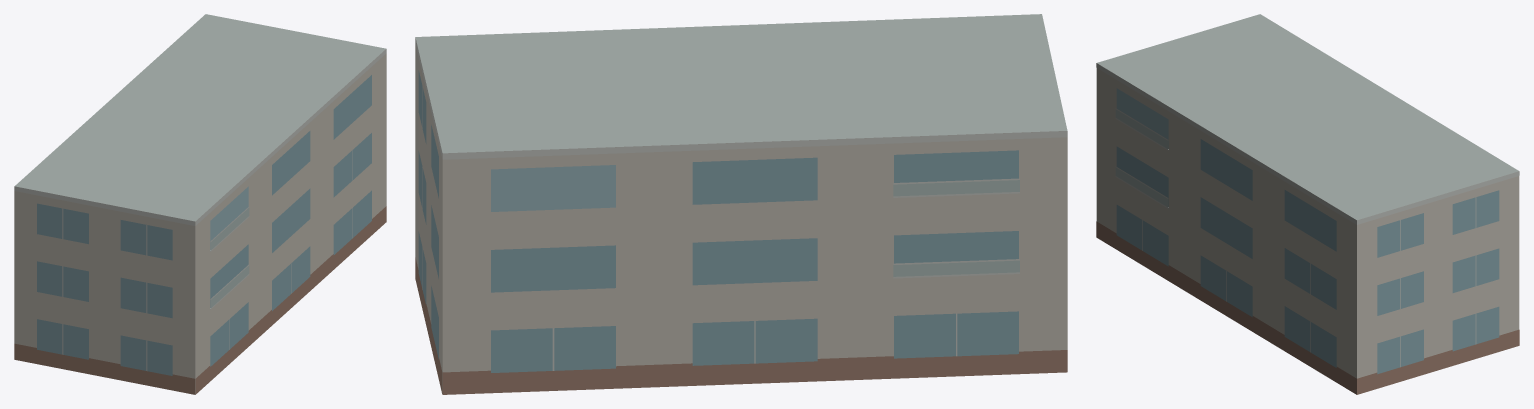
Rendered from survey-upis-32658838.glb.
The picture shows the model from 3 angles, left to right: view 1: azimuth 30°, elevation 25°; view 2: azimuth 150°, elevation 25°; view 3: azimuth 270°, elevation 25°; orthographic projection. The views are drawn at different scales.
Parts seen in each view (by area): view 1: survey-upis-32658838.tmp; view 2: survey-upis-32658838.tmp; view 3: survey-upis-32658838.tmp.
Boxes of the visible parts, box(x1,y1,x2,y2) form: survey-upis-32658838.tmp: box(14, 14, 386, 394); survey-upis-32658838.tmp: box(415, 14, 1067, 394); survey-upis-32658838.tmp: box(1096, 14, 1519, 394).
Bounding box in the file's own units: 23.21 × 9.15 × 20.1.
